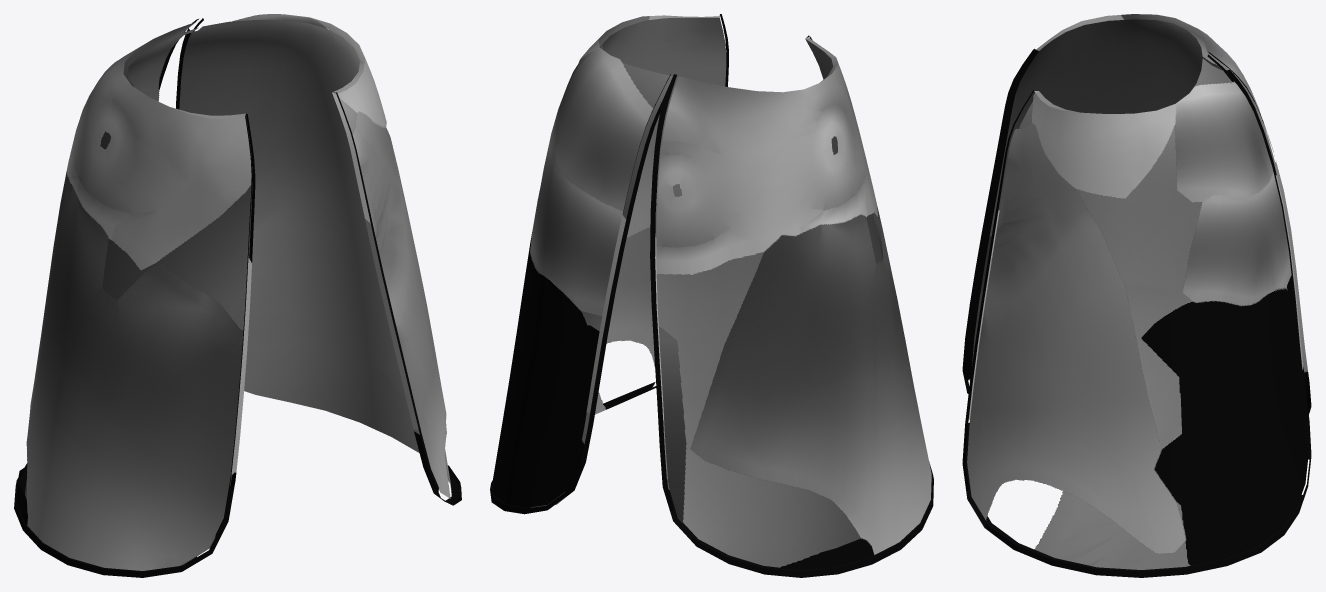
File: Kama.fbx
3 views of the same model, side by side, from view 1: azimuth 30°, elevation 25°; view 2: azimuth 150°, elevation 25°; view 3: azimuth 270°, elevation 25° (orthographic). The views are drawn at different scales.
Parts seen in each view (by area): view 1: ARC Kama; view 2: ARC Kama; view 3: ARC Kama.
Boxes of the visible parts, box(x1,y1,x2,y2) form: ARC Kama: box(14, 14, 461, 577); ARC Kama: box(490, 14, 933, 577); ARC Kama: box(962, 14, 1311, 577).
Bounding box in the file's own units: 1916 × 2162 × 1571.
